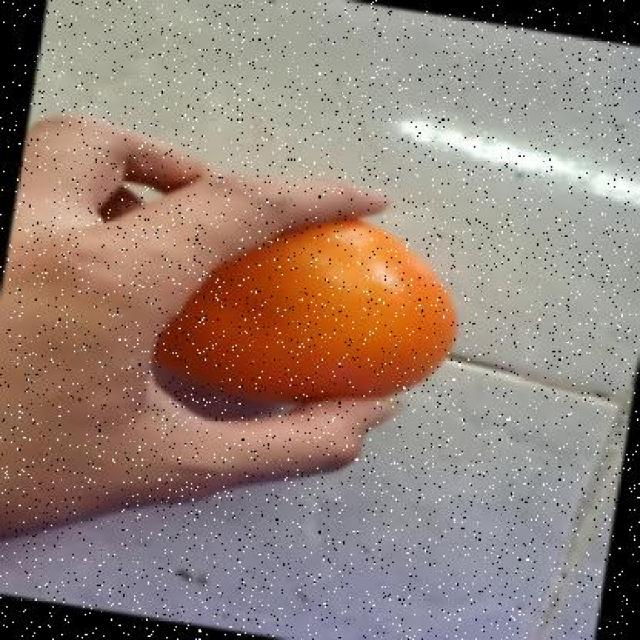Orange: (150, 215, 458, 412)
